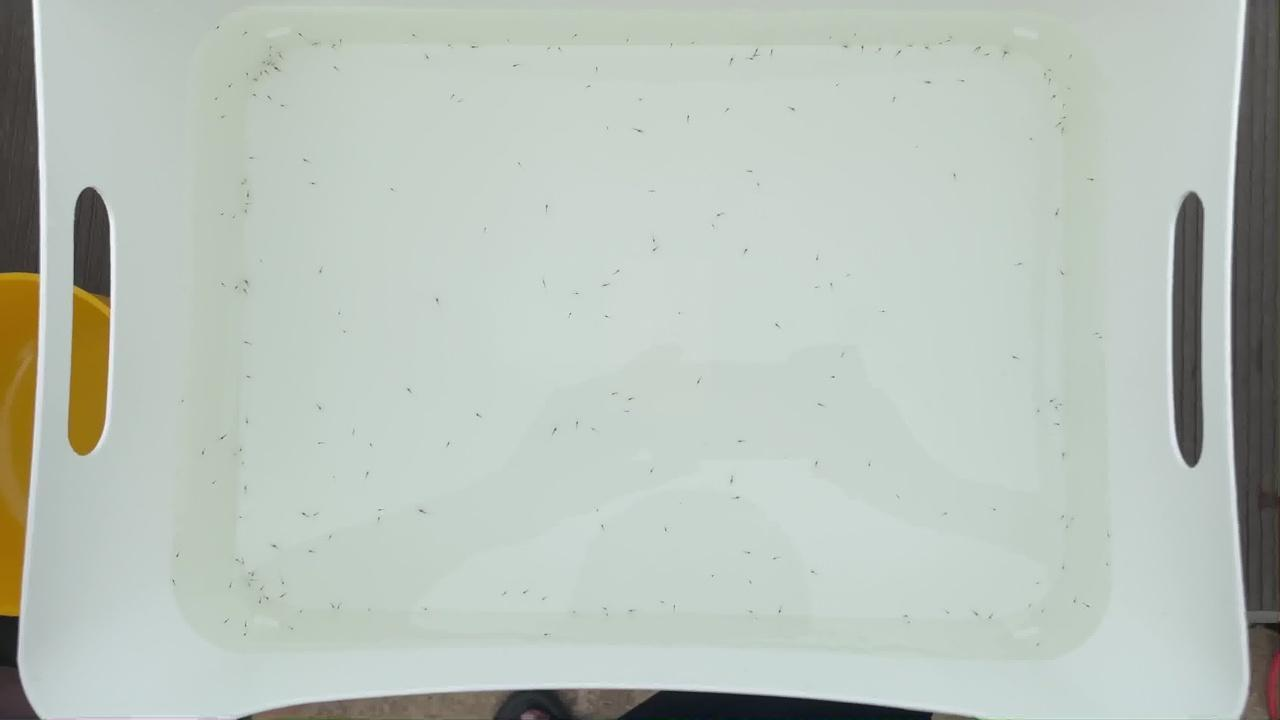shrimp: (940, 606, 953, 614), (1101, 561, 1114, 569), (1060, 451, 1073, 459), (989, 506, 1002, 514), (880, 307, 893, 315), (1085, 179, 1098, 187), (890, 96, 903, 104), (904, 41, 917, 49), (746, 52, 759, 60), (666, 41, 679, 49), (688, 41, 701, 49), (454, 96, 467, 104), (255, 68, 268, 76), (249, 91, 262, 99), (386, 185, 399, 193), (541, 202, 554, 210), (243, 340, 256, 348), (809, 284, 822, 292), (744, 168, 757, 176), (650, 190, 663, 198), (599, 285, 612, 293), (677, 312, 690, 320), (539, 633, 552, 641), (538, 594, 551, 602), (627, 395, 640, 403), (590, 429, 603, 437), (547, 428, 560, 436), (474, 412, 487, 420), (444, 440, 457, 448), (368, 440, 381, 448), (318, 440, 331, 448), (301, 512, 314, 520), (221, 617, 234, 625), (241, 418, 254, 426), (236, 445, 249, 453), (243, 567, 256, 575), (900, 611, 912, 619), (1061, 561, 1073, 569), (895, 489, 907, 497), (1094, 334, 1106, 342), (247, 152, 259, 160), (308, 179, 320, 187), (319, 262, 331, 270), (208, 478, 220, 486), (263, 594, 275, 602), (903, 621, 916, 628), (968, 609, 981, 616), (985, 612, 998, 619), (1031, 644, 1044, 651), (1026, 602, 1039, 609), (1037, 609, 1050, 616), (1067, 598, 1080, 605), (1082, 602, 1095, 609), (1100, 531, 1113, 538), (1068, 515, 1081, 522), (1056, 511, 1069, 518), (1053, 419, 1066, 426), (1050, 403, 1063, 410), (1045, 396, 1058, 403), (938, 509, 951, 516), (865, 458, 878, 465), (815, 399, 828, 406), (830, 374, 843, 381), (837, 351, 850, 358), (1010, 352, 1023, 359), (1091, 330, 1104, 337), (1058, 271, 1071, 278), (1013, 260, 1026, 267), (1053, 208, 1066, 215), (955, 171, 968, 178), (1060, 127, 1073, 134), (1053, 123, 1066, 130), (1060, 116, 1073, 123), (1024, 135, 1037, 142), (1058, 105, 1071, 112), (1047, 92, 1060, 99), (1065, 85, 1078, 92), (1046, 66, 1059, 73), (1043, 79, 1056, 86), (1038, 72, 1051, 79), (999, 51, 1012, 58), (981, 51, 994, 58), (968, 44, 981, 51), (937, 79, 950, 86), (956, 79, 969, 86), (924, 78, 937, 85), (831, 85, 844, 92), (945, 35, 958, 42), (942, 41, 955, 48), (937, 41, 950, 48), (921, 44, 934, 51), (892, 48, 905, 55), (876, 44, 889, 51), (858, 45, 871, 52), (842, 41, 855, 48), (826, 35, 839, 42), (750, 47, 763, 54), (783, 103, 796, 110), (722, 109, 735, 116), (727, 55, 740, 62), (683, 110, 696, 117), (602, 124, 615, 131), (635, 96, 648, 103), (584, 83, 597, 90), (591, 66, 604, 73), (620, 36, 633, 43), (649, 44, 662, 51), (570, 32, 583, 39), (554, 44, 567, 51), (542, 46, 555, 53), (510, 63, 523, 70), (442, 41, 455, 48), (422, 53, 435, 60), (410, 34, 423, 41), (445, 94, 458, 101), (331, 63, 344, 70), (337, 36, 350, 43), (329, 42, 342, 49), (311, 42, 324, 49), (296, 35, 309, 42), (214, 27, 227, 34), (240, 32, 253, 39), (265, 42, 278, 49), (272, 63, 285, 70), (264, 51, 277, 58), (264, 68, 277, 75), (241, 70, 254, 77), (262, 94, 275, 101), (277, 100, 290, 107), (225, 83, 238, 90), (210, 93, 223, 100), (216, 108, 229, 115), (243, 176, 256, 183), (241, 187, 254, 194), (239, 180, 252, 187), (244, 198, 257, 205), (241, 206, 254, 213), (218, 209, 231, 216), (299, 158, 312, 165), (369, 164, 382, 171), (515, 160, 528, 167), (241, 276, 254, 283), (231, 283, 244, 290), (218, 283, 231, 290), (333, 310, 346, 317), (340, 328, 353, 335), (430, 300, 443, 307), (243, 372, 256, 379), (179, 398, 192, 405), (826, 282, 839, 289), (842, 271, 855, 278), (813, 255, 826, 262), (715, 212, 728, 219), (647, 238, 660, 245), (647, 248, 660, 255), (611, 270, 624, 277), (571, 290, 584, 297), (537, 277, 550, 284), (561, 309, 574, 316), (600, 317, 613, 324), (772, 321, 785, 328), (692, 378, 705, 385), (750, 419, 763, 426), (734, 437, 747, 444), (726, 470, 739, 477), (742, 550, 755, 557), (768, 554, 781, 561), (806, 570, 819, 577), (773, 608, 786, 615), (747, 608, 760, 615), (669, 605, 682, 612), (655, 598, 668, 605), (625, 608, 638, 615), (602, 608, 615, 615), (569, 605, 582, 612), (518, 589, 531, 596), (591, 502, 604, 509), (662, 527, 675, 534), (647, 468, 660, 475), (607, 395, 620, 402), (406, 387, 419, 394), (360, 467, 373, 474), (350, 426, 363, 433), (316, 405, 329, 412), (374, 516, 387, 523), (376, 508, 389, 515), (416, 507, 429, 514), (310, 513, 323, 520), (325, 532, 338, 539), (306, 548, 319, 555), (364, 609, 377, 616), (421, 608, 434, 615), (327, 602, 340, 609), (297, 610, 310, 617), (289, 625, 302, 632), (238, 629, 251, 636), (239, 621, 252, 628), (225, 582, 238, 589), (170, 580, 183, 587), (173, 549, 186, 556), (196, 452, 209, 459), (219, 434, 232, 441), (236, 463, 249, 470), (238, 511, 251, 518), (269, 544, 282, 551), (238, 559, 251, 566), (230, 557, 243, 564), (249, 567, 262, 574), (242, 583, 255, 590), (256, 586, 269, 593), (256, 598, 269, 605), (277, 590, 290, 597), (277, 577, 290, 584), (1033, 581, 1045, 588), (1061, 524, 1073, 531), (1055, 399, 1067, 406), (1033, 405, 1045, 412), (812, 457, 824, 464), (1066, 55, 1078, 62), (850, 34, 862, 41), (768, 49, 780, 56), (634, 127, 646, 134), (469, 45, 481, 52), (274, 48, 286, 55), (263, 60, 275, 67), (258, 60, 270, 67), (253, 78, 265, 85), (230, 212, 242, 219), (479, 227, 491, 234), (258, 254, 270, 261), (241, 288, 253, 295), (740, 248, 752, 255), (756, 180, 768, 187), (707, 222, 719, 229), (734, 498, 746, 505), (745, 578, 757, 585), (502, 592, 514, 599), (601, 524, 613, 531), (623, 410, 635, 417), (573, 420, 585, 427), (335, 602, 347, 609), (241, 487, 253, 494)
